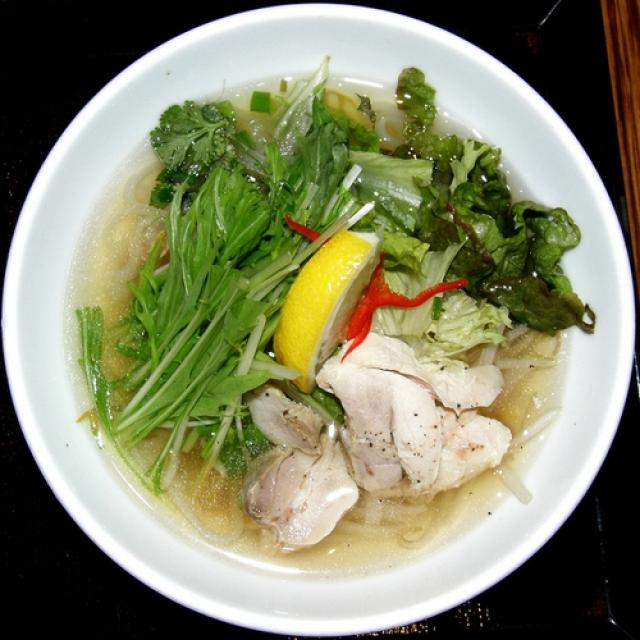面条主食: (33, 25, 608, 616)
